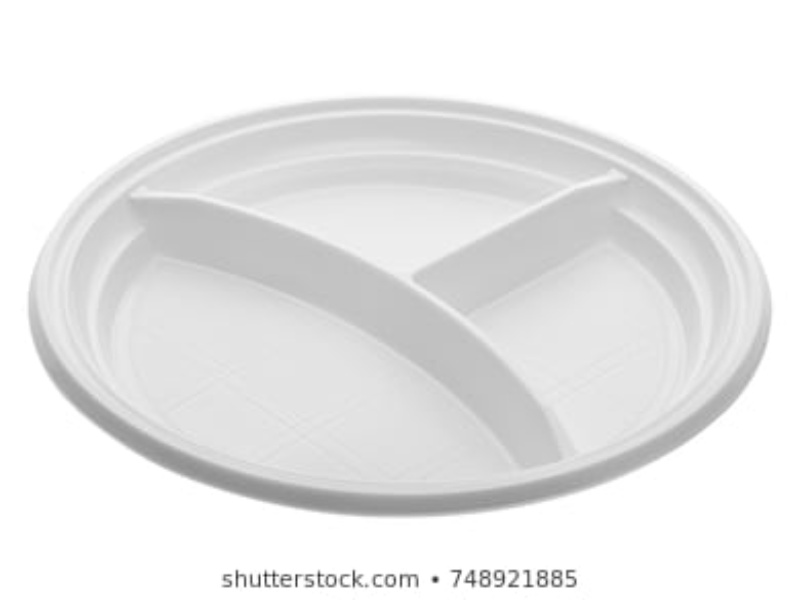plastic-plate: (27, 94, 777, 510)
